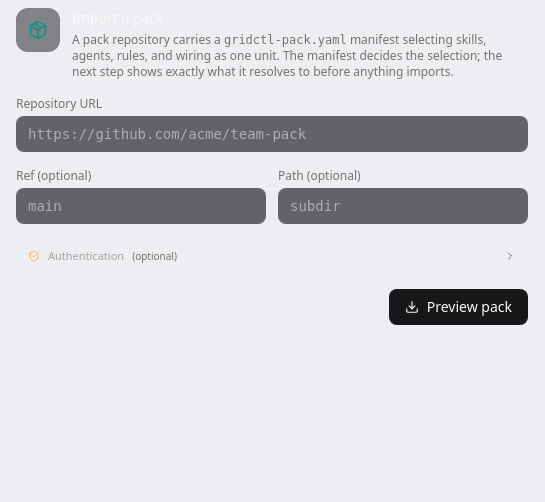
PackImportWizard — credentials › auto-opens the card on a 401, which arrives as an AuthError with no status
Type "https://github.com/acme/private-pack" into the field named "pack repository url" at (272, 134), box [16,116,528,152]
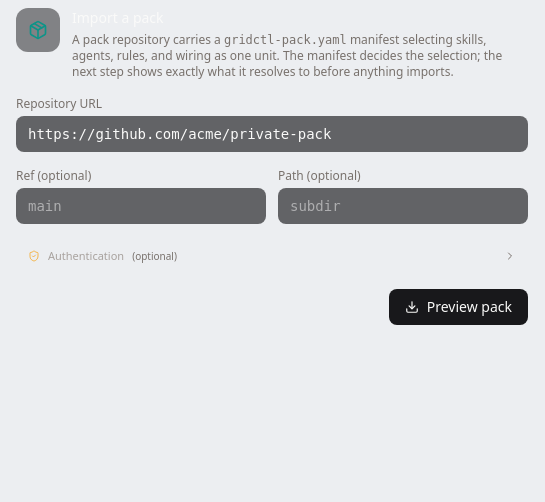
Click the button "Preview pack" at (458, 306), box [389,288,528,324]
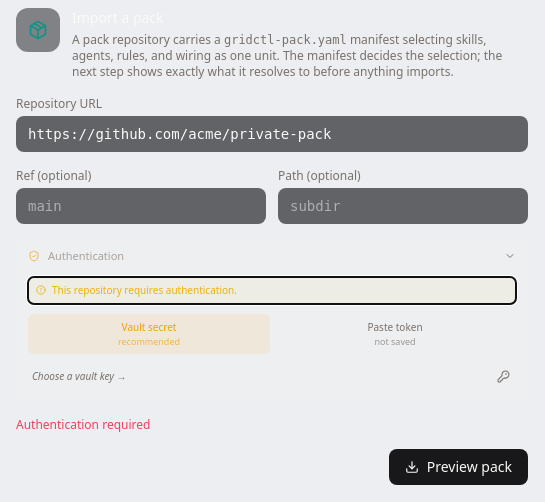
Now the button "Authentication" is expanded, box [16,240,528,272]
Now the text "This repository requires authentication." is shown, box [52,282,237,298]
